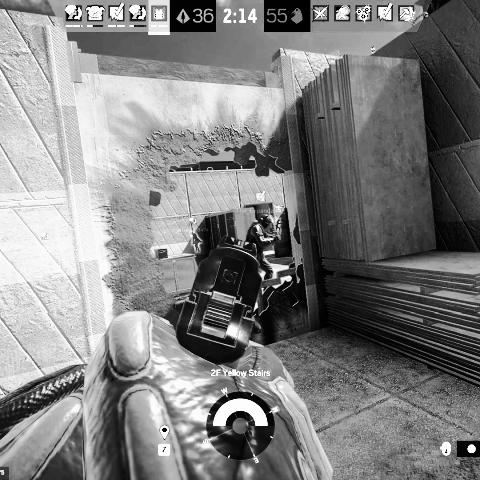Character: (246, 215, 282, 281)
Friend_label: (236, 190, 282, 215), (176, 216, 211, 234), (37, 232, 56, 249)
Head: (257, 216, 271, 228)
